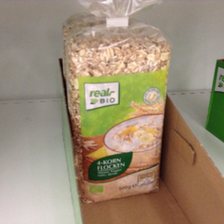cereal: (63, 23, 174, 202)
